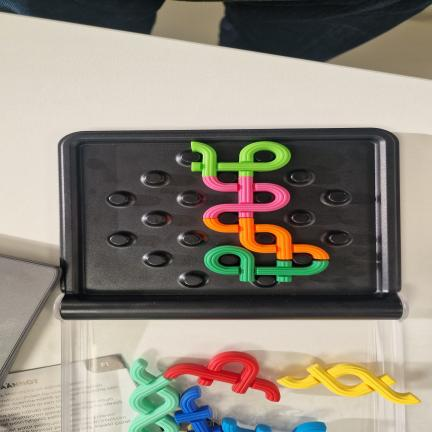D_Green: (205, 246, 328, 282)
G_Pink: (203, 177, 290, 219)
I_Orange: (204, 218, 329, 259)
K_YellowGreen: (191, 142, 290, 177)
board: (59, 128, 402, 320)
hinge: (59, 293, 408, 322)
pin: (288, 211, 313, 226), (290, 171, 310, 183), (329, 233, 349, 245), (219, 254, 239, 266), (254, 151, 275, 162), (181, 151, 200, 163), (328, 192, 348, 203), (109, 234, 129, 245), (218, 172, 237, 183), (108, 194, 127, 205), (182, 193, 201, 204), (255, 192, 274, 203), (219, 213, 238, 224), (146, 214, 165, 225), (183, 234, 202, 245), (293, 254, 312, 265), (146, 254, 165, 265), (183, 275, 202, 286), (256, 233, 275, 244), (145, 173, 163, 184), (257, 276, 275, 286)
